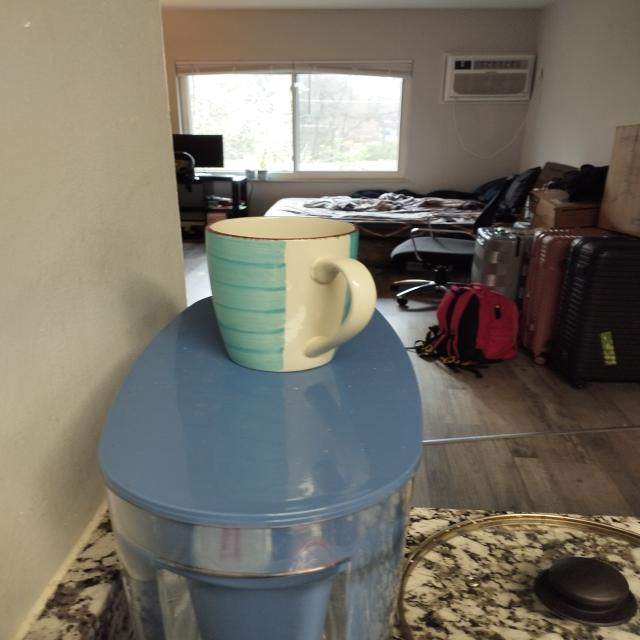Cup: (180, 211, 393, 378)
